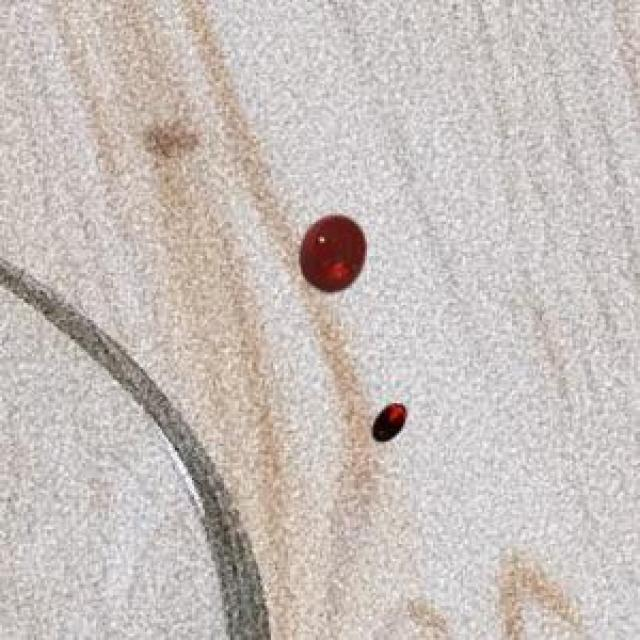Medicol: (288, 204, 384, 308), (361, 396, 415, 453)
